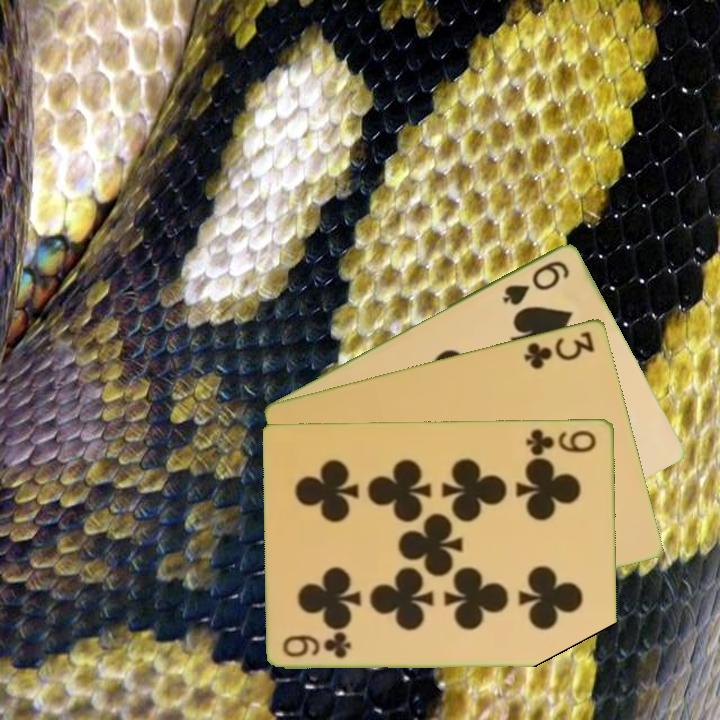3c: (520, 327, 598, 372)
6s: (499, 256, 573, 308)
9c: (523, 425, 599, 457), (280, 631, 355, 661)
